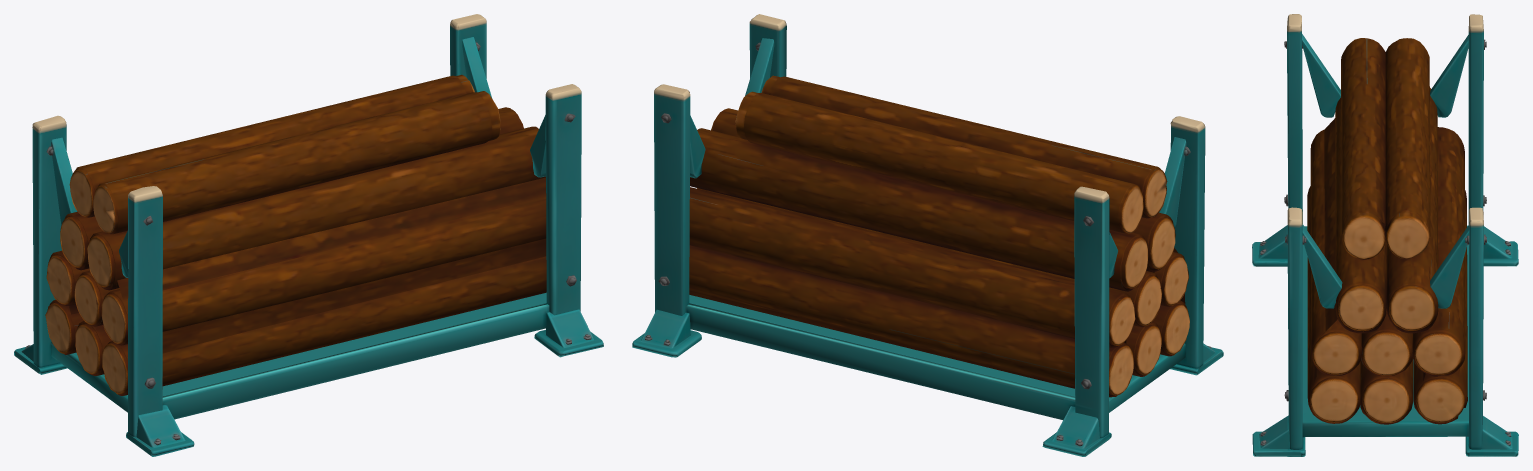
The model's file is timber-log-cradle.glb.
3 views of the same model, side by side, from view 1: azimuth 30°, elevation 25°; view 2: azimuth 150°, elevation 25°; view 3: azimuth 270°, elevation 25° (orthographic). The views are drawn at different scales.
Visible parts, largest first — view 1: geometry_0; view 2: geometry_0; view 3: geometry_0.
Boxes of the visible parts, left/top/right/bottom form: geometry_0: left=14, top=14, right=603, bottom=456; geometry_0: left=632, top=14, right=1223, bottom=456; geometry_0: left=1252, top=14, right=1518, bottom=456.
Size of the model in its own units: 1 by 0.5242 by 0.5392.
Materials: 1 (1 with a texture image).
